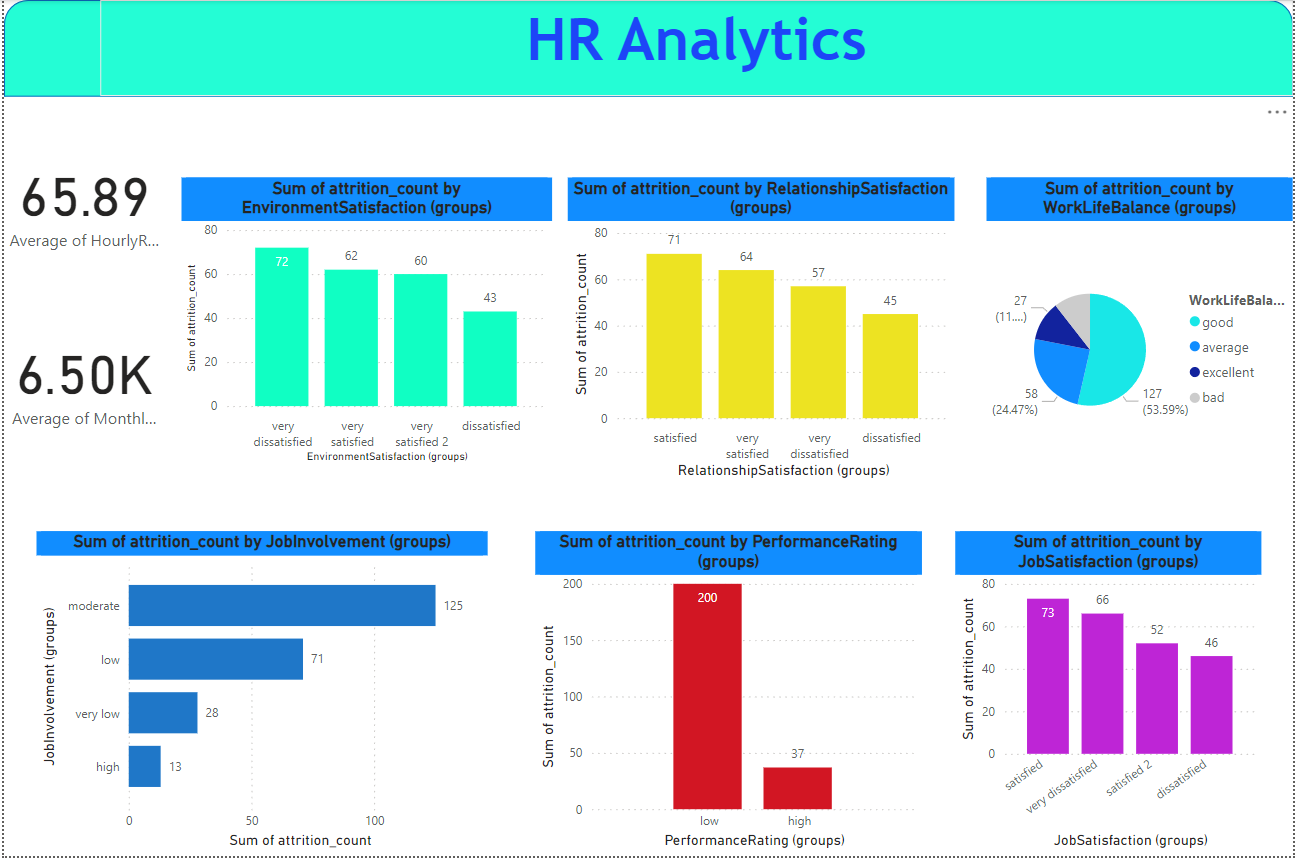

The page's visual inventory and layout, read from the dashboard file:
{"tool":"powerbi","page":{"name":"Page 9","canvas":[1280,720],"ordinal":3},"visuals":[{"type":"columnChart","fields":{"Y":["Sum(HR-Employee-Attrition.attrition_count)"],"Category":["HR-Employee-Attrition.EnvironmentSatisfaction (groups)"]},"box":[192,48,368,288],"z":0},{"type":"barChart","fields":{"Category":["HR-Employee-Attrition.JobInvolvement (groups)"],"Y":["Sum(HR-Employee-Attrition.attrition_count)"]},"box":[96,384,448,320],"z":1000},{"type":"clusteredColumnChart","fields":{"Category":["HR-Employee-Attrition.RelationshipSatisfaction (groups)"],"Y":["Sum(HR-Employee-Attrition.attrition_count)"]},"box":[576,48,384,304],"z":2000},{"type":"columnChart","fields":{"Category":["HR-Employee-Attrition.PerformanceRating (groups)"],"Y":["Sum(HR-Employee-Attrition.attrition_count)"]},"box":[576,394,384,326],"z":3000},{"type":"pieChart","fields":{"Category":["HR-Employee-Attrition.WorkLifeBalance (groups)"],"Y":["Sum(HR-Employee-Attrition.attrition_count)"]},"box":[970,48,310,304],"z":4000},{"type":"columnChart","fields":{"Category":["HR-Employee-Attrition.JobSatisfaction (groups)"],"Y":["Sum(HR-Employee-Attrition.attrition_count)"]},"box":[970,394,310,326],"z":5000},{"type":"card","fields":{"Values":["Avg(HR-Employee-Attrition.MonthlyIncome)"]},"box":[16,16,160,112],"z":6000},{"type":"card","fields":{"Values":["Avg(HR-Employee-Attrition.HourlyRate)"]},"box":[0,128,192,144],"z":7000}]}

Visuals, with their boxes on the page's 1280x720 design canvas (x1, y1, x2, y2). These are canvas units, not pixel positions in the 1295x859 screenshot, which may show the page scaled, cropped or inside an application window:
columnChart - Sum(HR-Employee-Attrition.attrition_count) x HR-Employee-Attrition.EnvironmentSatisfaction (groups): bbox=(192, 48, 560, 336)
barChart - HR-Employee-Attrition.JobInvolvement (groups) x Sum(HR-Employee-Attrition.attrition_count): bbox=(96, 384, 544, 704)
clusteredColumnChart - HR-Employee-Attrition.RelationshipSatisfaction (groups) x Sum(HR-Employee-Attrition.attrition_count): bbox=(576, 48, 960, 352)
columnChart - HR-Employee-Attrition.PerformanceRating (groups) x Sum(HR-Employee-Attrition.attrition_count): bbox=(576, 394, 960, 720)
pieChart - HR-Employee-Attrition.WorkLifeBalance (groups) x Sum(HR-Employee-Attrition.attrition_count): bbox=(970, 48, 1280, 352)
columnChart - HR-Employee-Attrition.JobSatisfaction (groups) x Sum(HR-Employee-Attrition.attrition_count): bbox=(970, 394, 1280, 720)
card - Avg(HR-Employee-Attrition.MonthlyIncome): bbox=(16, 16, 176, 128)
card - Avg(HR-Employee-Attrition.HourlyRate): bbox=(0, 128, 192, 272)
